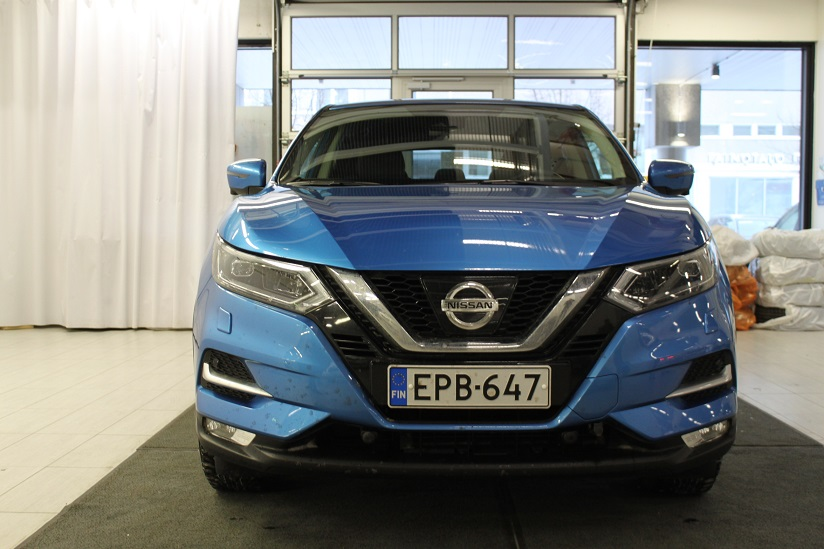license: (386, 364, 547, 408)
